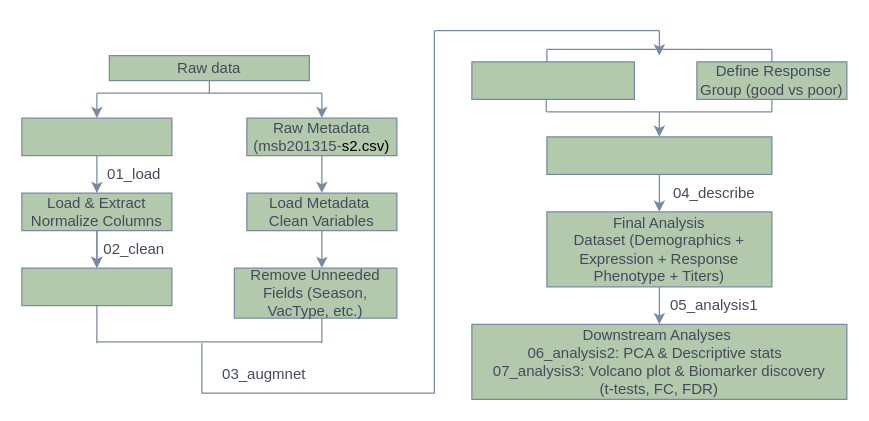
Some shapes in this 869 by 421 pixel diagram are drawn without their labels. The shapes that lost their labels are listed below. From the top down, each one's centre as x and y in pixels, then its label:
At (x=552, y=80): "Pivot Expression Wide (samples x probes)".
At (x=96, y=136): "Raw Expression Files (GSE41080_RAW.tar)".
At (x=659, y=155): "Merge Expression + Metadata by Sample ID (file/GSM)".
At (x=96, y=286): "Filter Probes by Mean p < .05".
